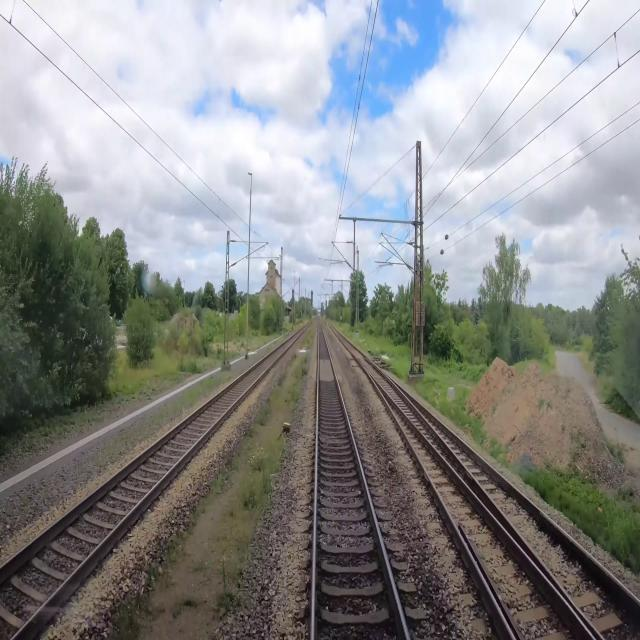Plant: (213, 433, 287, 615), (256, 322, 317, 423), (107, 587, 164, 639), (210, 436, 253, 496), (176, 500, 205, 541), (148, 560, 178, 588), (170, 598, 205, 621), (165, 537, 187, 561)
